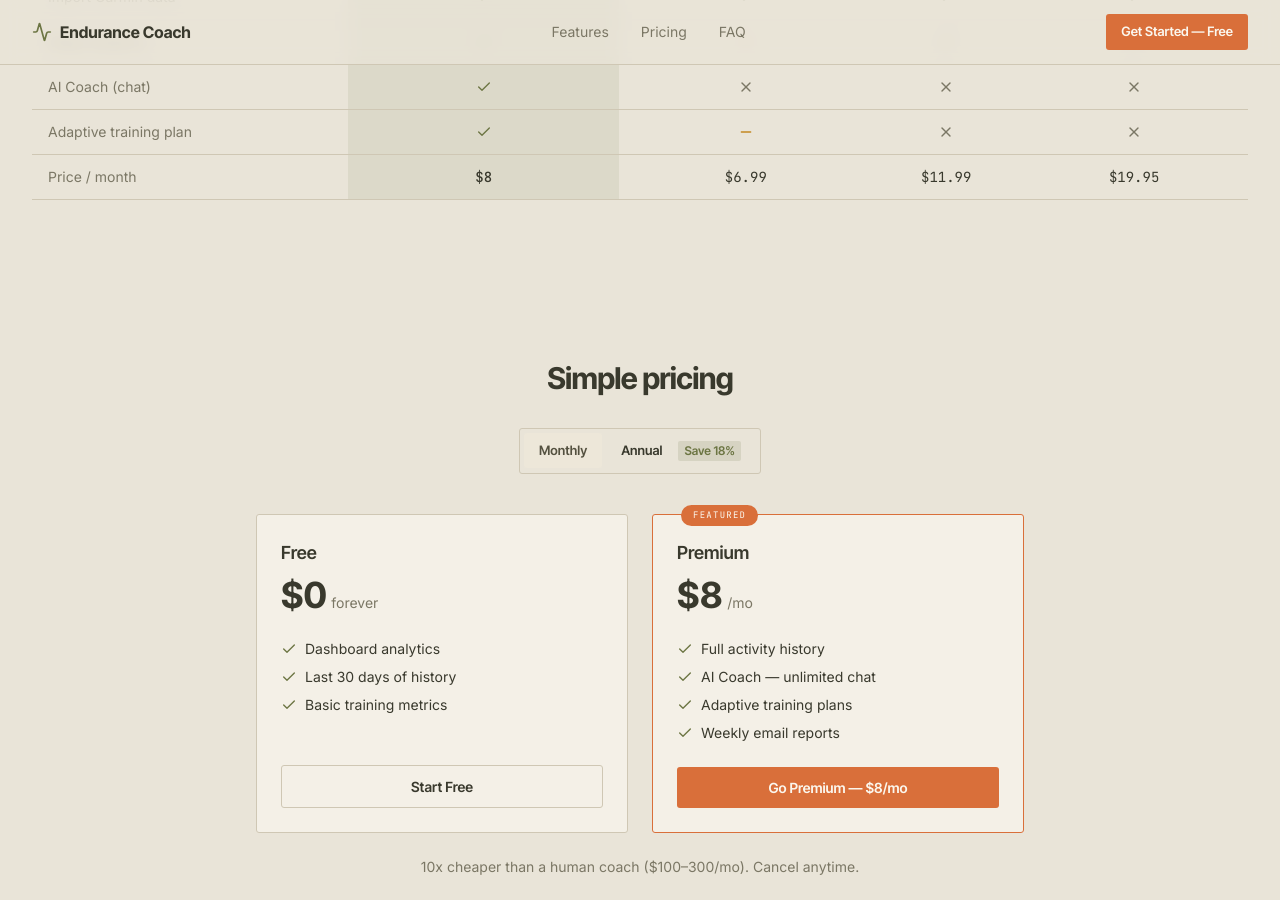
Landing page — pricing (7a.5) › toggles between monthly and annual price
(page scrolled)
Expected: the text "Save 18%" is shown, [678,440,741,460]
Expected: the text "$8" below "Featured" is shown, [677,572,723,616]
What coordinates should you click on to do the following:
click the button "Annual Save 18%"
I would click on:
 (681, 450)
Its box is [606,432,756,468].
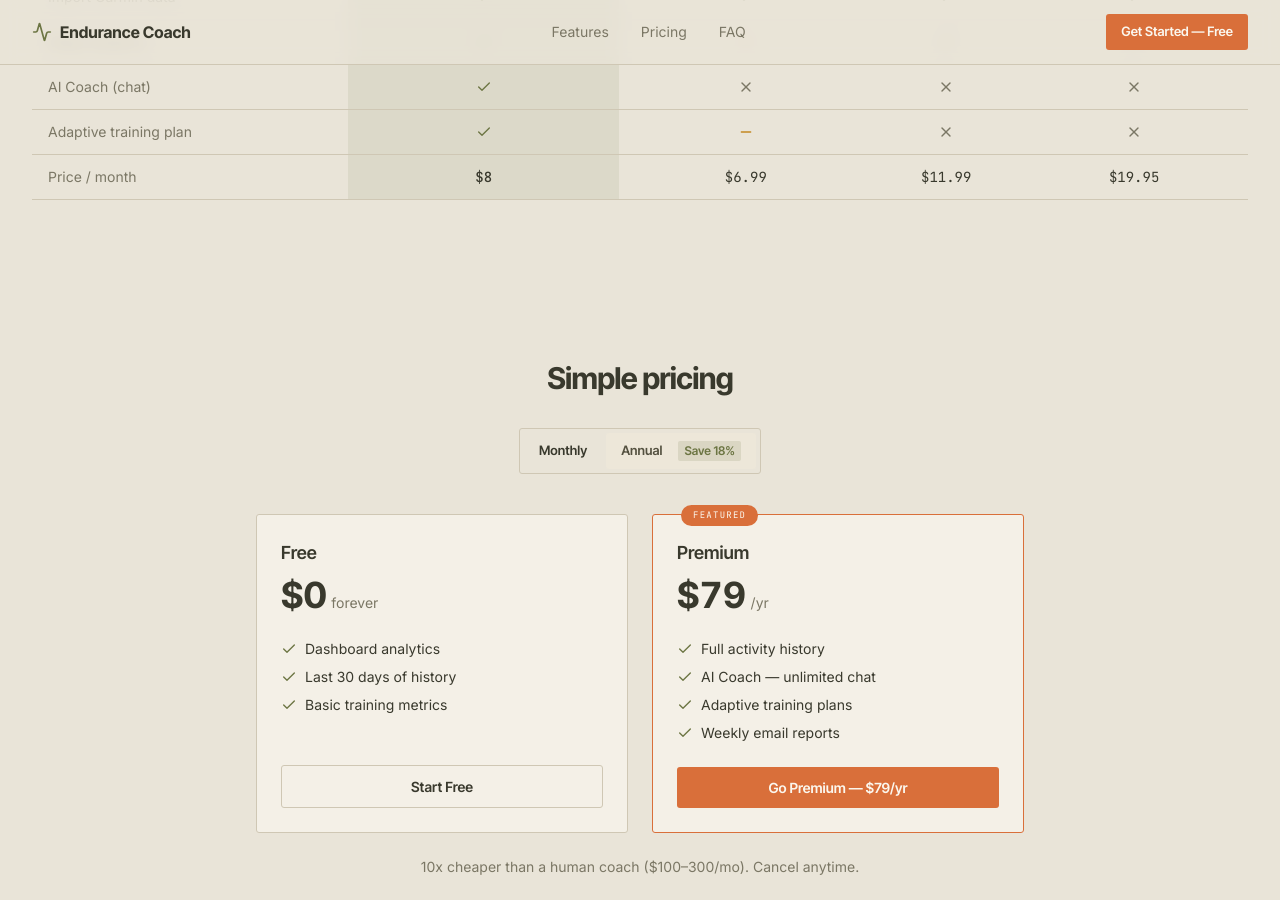
Expected: the text "$79" is shown, [677,572,746,616]
